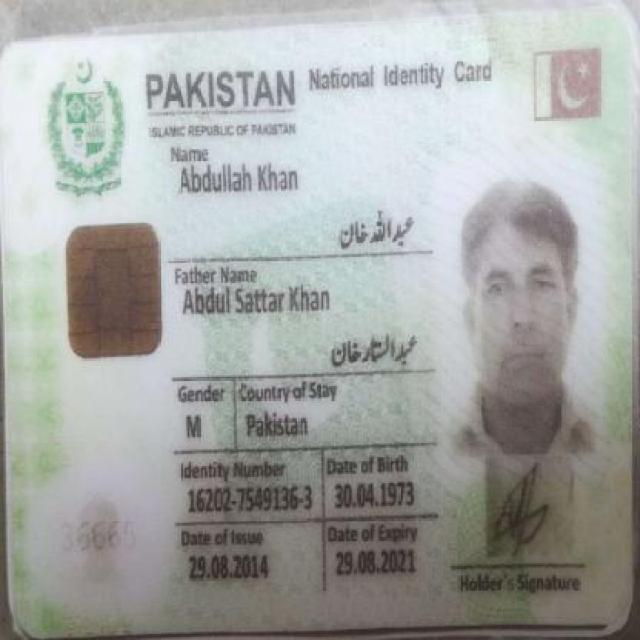Front: (6, 24, 634, 630)
